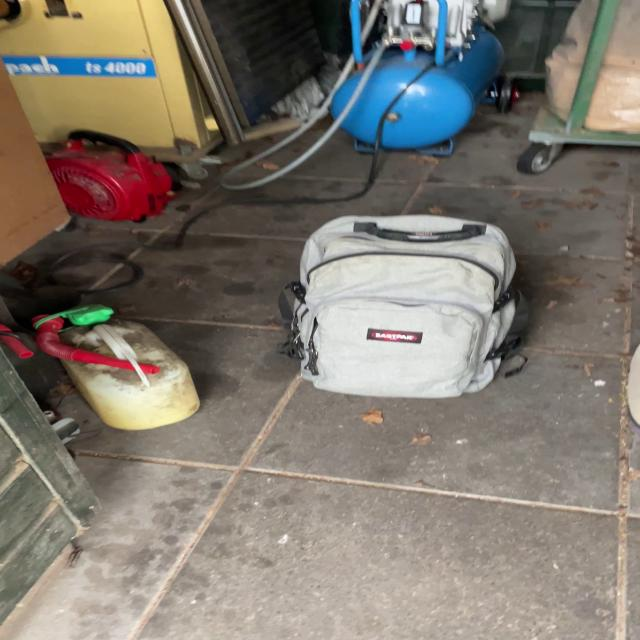backpack: (263, 206, 543, 404)
